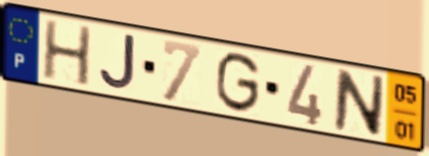4: (284, 62, 325, 127)
7: (161, 38, 205, 105)
G: (214, 50, 263, 116)
H: (40, 18, 94, 89)
J: (97, 33, 137, 93)
N: (332, 67, 388, 141)
